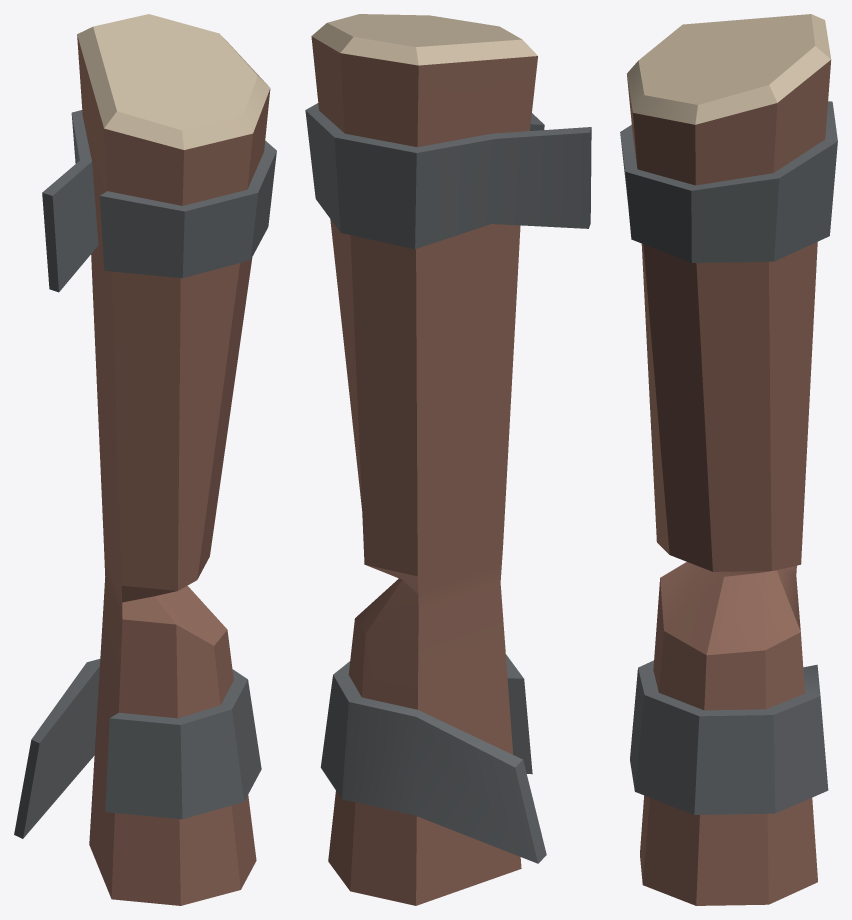
File: SM_Wooden_Pillar_Small_Medium_02.fbx
3 views of the same model, side by side, from view 1: azimuth 30°, elevation 25°; view 2: azimuth 150°, elevation 25°; view 3: azimuth 270°, elevation 25° (orthographic). The views are drawn at different scales.
Visible parts, largest first — view 1: Wooden_Pillar_Small_Medium_02; view 2: Wooden_Pillar_Small_Medium_02; view 3: Wooden_Pillar_Small_Medium_02.
Part boxes in pixels (x1,y1,x2,y2): Wooden_Pillar_Small_Medium_02: [14, 14, 276, 905]; Wooden_Pillar_Small_Medium_02: [305, 14, 591, 905]; Wooden_Pillar_Small_Medium_02: [620, 14, 837, 905].
Size of the model in its own units: 20.99 by 70.28 by 16.55.
